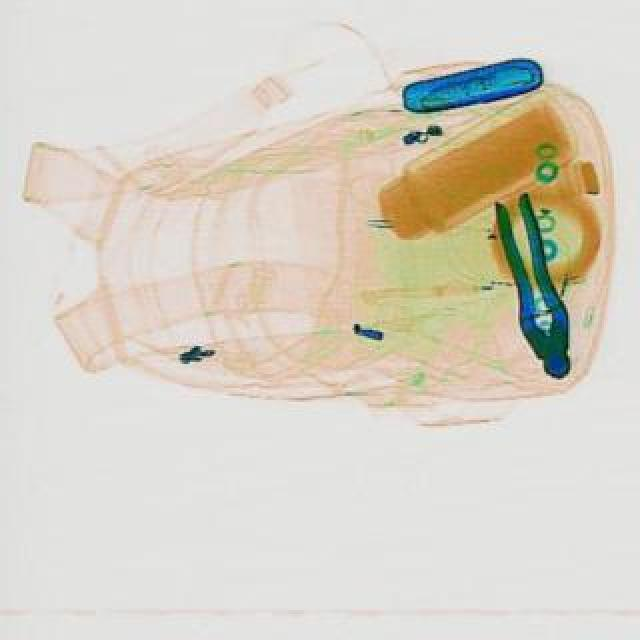wrench: (482, 188, 584, 382)
